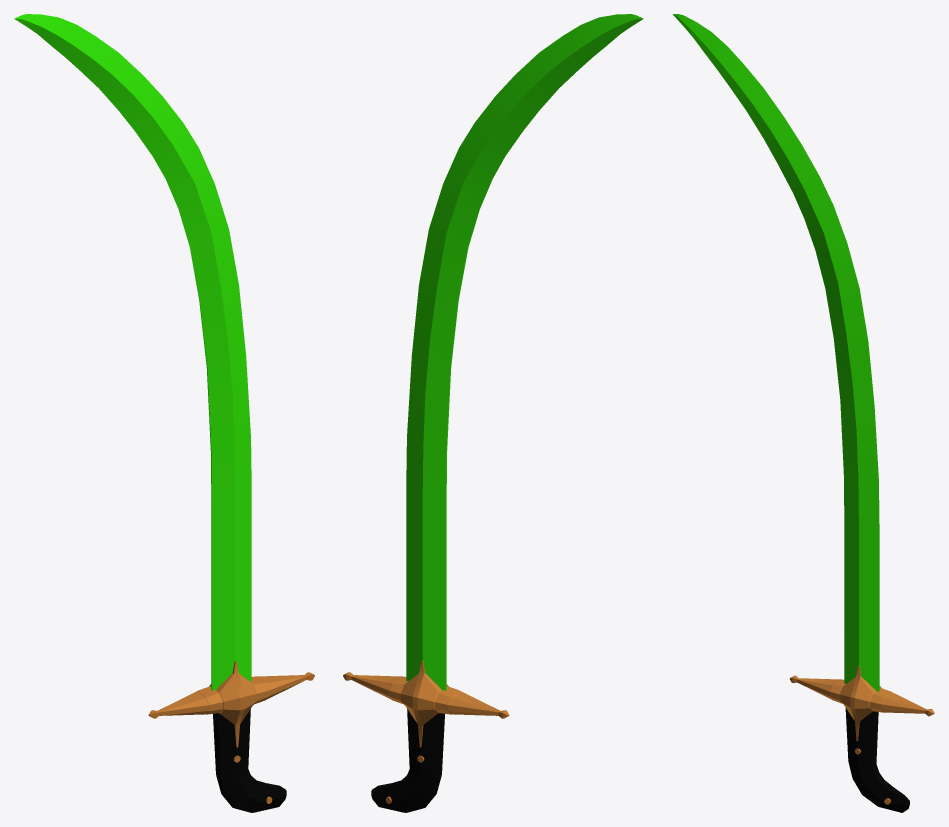
Rendered from SM_Sword16_Shamshir_7FantasyGreen.fbx.
3 views of the same model, side by side, from view 1: azimuth 30°, elevation 25°; view 2: azimuth 150°, elevation 25°; view 3: azimuth 330°, elevation 25° (orthographic). The views are drawn at different scales.
Parts seen in each view (by area): view 1: Cube.347, Cylinder.440, Cube.348; view 2: Cube.347, Cylinder.440, Cube.348; view 3: Cube.347, Cylinder.440, Cube.348.
Part boxes in pixels (<box>): Cube.347: <box>14,14,251,690</box>; Cylinder.440: <box>213,709,286,812</box>; Cube.348: <box>148,661,314,747</box>; Cube.347: <box>406,14,643,690</box>; Cylinder.440: <box>371,709,444,812</box>; Cube.348: <box>343,661,509,747</box>; Cube.347: <box>673,14,879,691</box>; Cylinder.440: <box>845,708,909,812</box>; Cube.348: <box>789,666,934,741</box>.
Bounding box in the file's own units: 0.3006 × 0.8173 × 0.0382.
